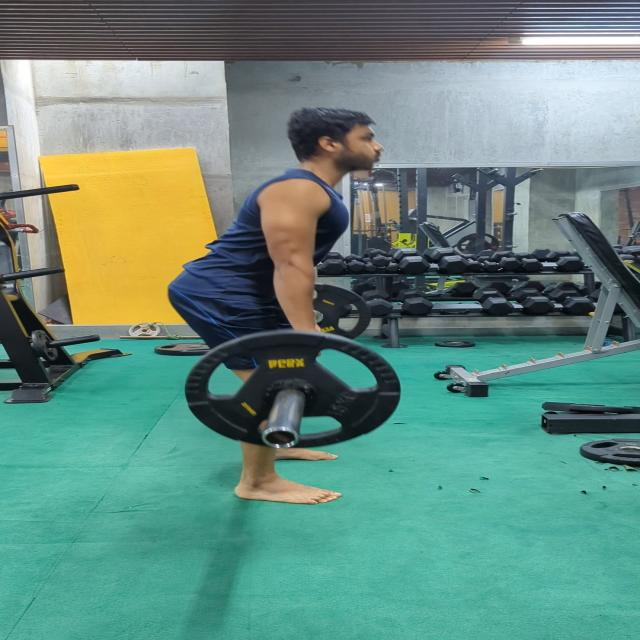Normal_Deadlifts: (164, 108, 388, 506)
